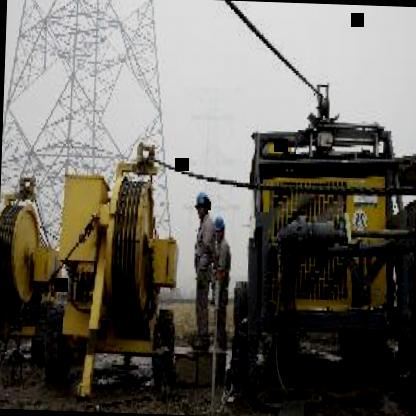helmet: (193, 190, 213, 219), (212, 215, 226, 239)
